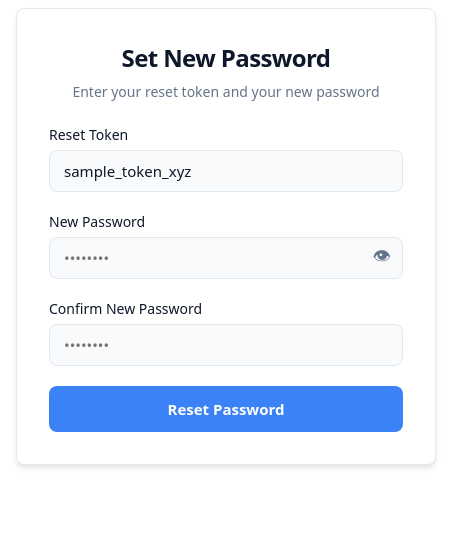
Password Reset components › renders PasswordConfirm fields and validates mismatched password
This screenshot has width=453, height=554.
Expected: the field labelled "Reset Token" holds "sample_token_xyz", top-left (49, 150), bottom-right (403, 192)
Expected: the password field labelled "Confirm New Password" is shown, top-left (49, 324), bottom-right (403, 366)
Step 1. Type "passA" into the password field labelled "New Password" → (226, 258), box top-left (49, 237), bottom-right (403, 279)
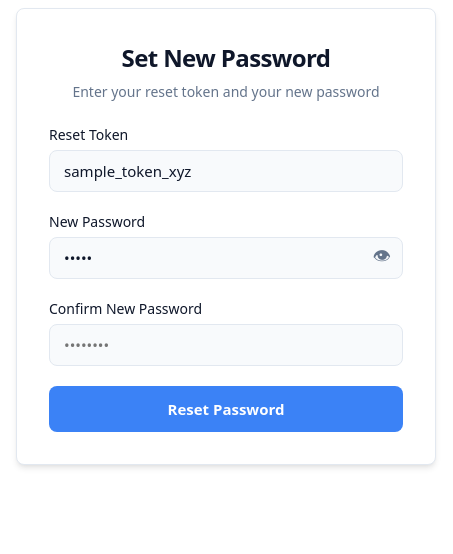
Step 2. Type "passB" into the password field labelled "Confirm New Password" → (226, 345), box top-left (49, 324), bottom-right (403, 366)
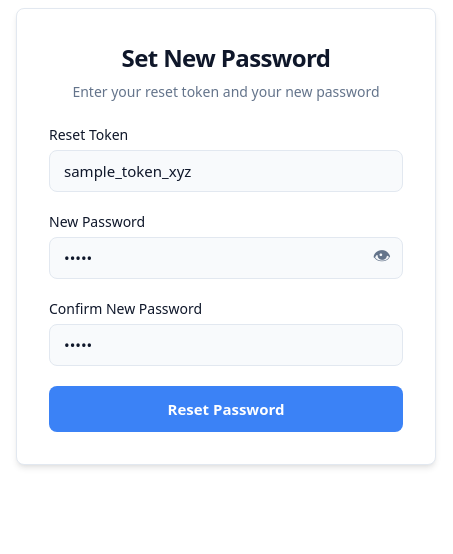
Step 3. Click the button "Reset Password" → (226, 409), box top-left (49, 386), bottom-right (403, 432)
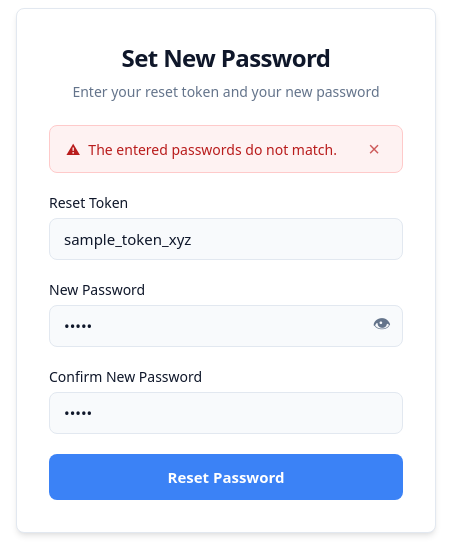
Expected: the text "The entered passwords do not match." is shown, top-left (88, 140), bottom-right (337, 158)
